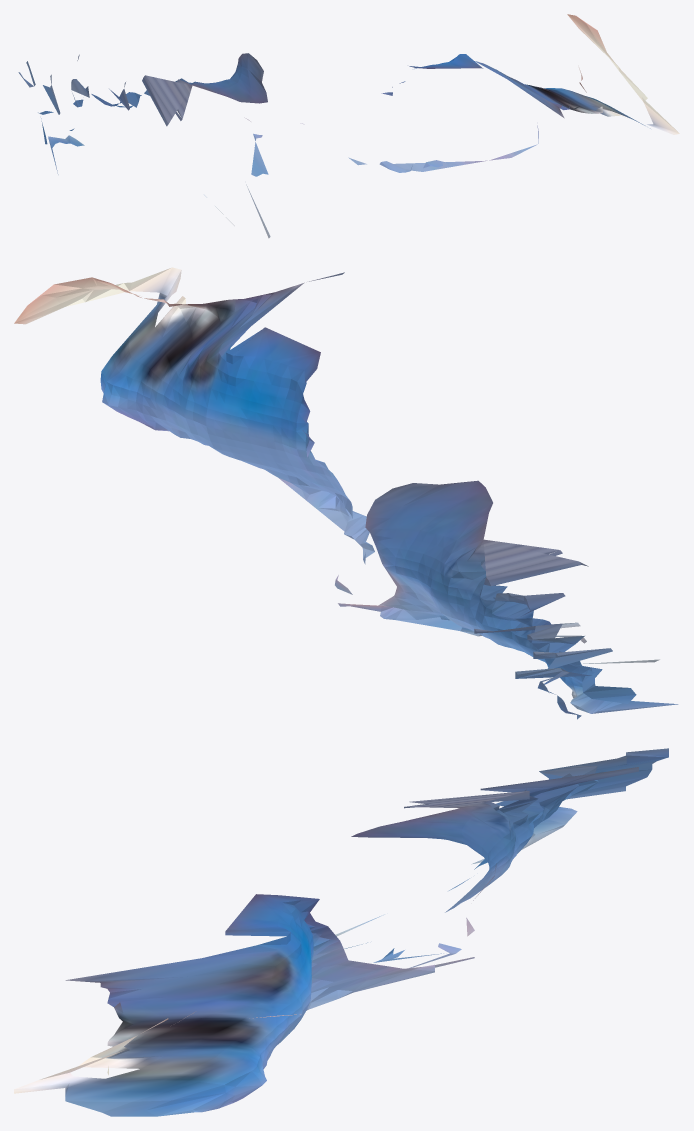
Rendered from observed-surface.glb.
The picture shows the model from 3 angles, top to bottom: view 1: azimuth 30°, elevation 25°; view 2: azimuth 150°, elevation 25°; view 3: azimuth 270°, elevation 25°; orthographic projection. The views are drawn at different scales.
Parts seen in each view (by area): view 1: geometry_0; view 2: geometry_0; view 3: geometry_0.
Boxes of the visible parts, <box> form: geometry_0: <box>18,14,679,238</box>; geometry_0: <box>14,267,678,719</box>; geometry_0: <box>14,748,668,1116</box>.
Size of the model in its own units: 0.6975 by 0.1876 by 0.5696.
1 material, 1 textured.
